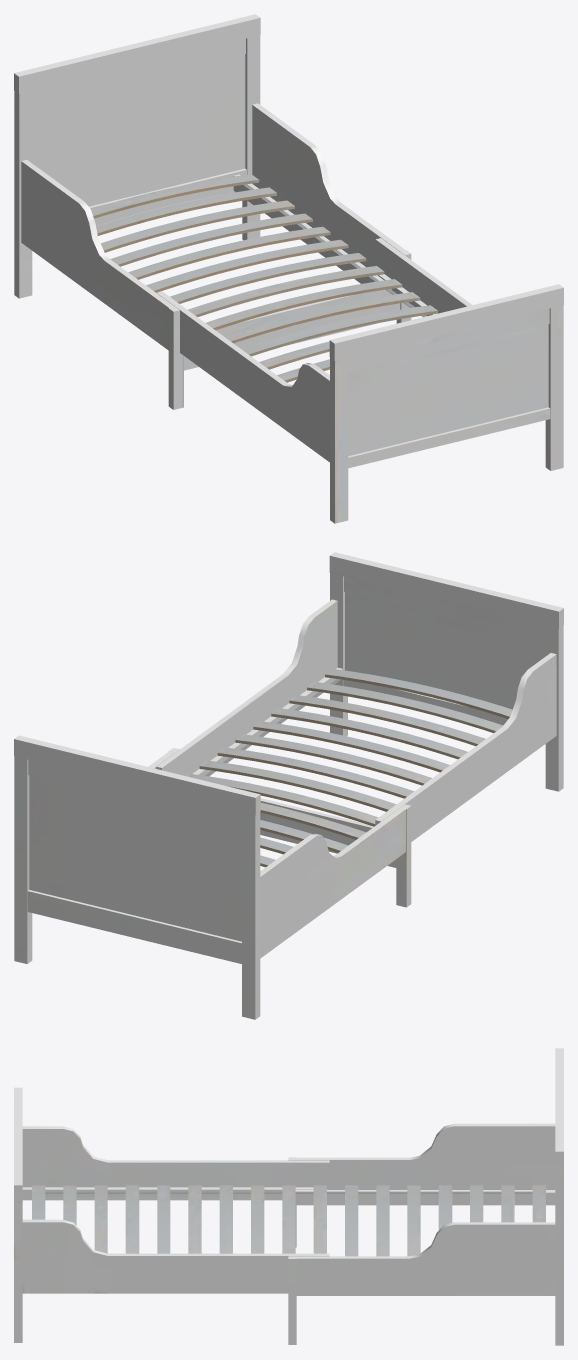
File: 05 - SUNDVIK - 延伸床, 灰色, 80x200 公分 IKEA 線上購物.glb
3 views of the same model, one above another, from view 1: azimuth 30°, elevation 25°; view 2: azimuth 150°, elevation 25°; view 3: azimuth 270°, elevation 25° (orthographic). The views are drawn at different scales.
Visible parts, largest first — view 1: Mesh_0; view 2: Mesh_0; view 3: Mesh_0.
Boxes of the visible parts, x1,y1,x2,y2 form: Mesh_0: (14, 14, 563, 523); Mesh_0: (14, 552, 563, 1019); Mesh_0: (14, 1048, 563, 1345).
Bounding box in the file's own units: 0.9138 × 0.8021 × 2.06.
Materials: 1 (1 with a texture image).
